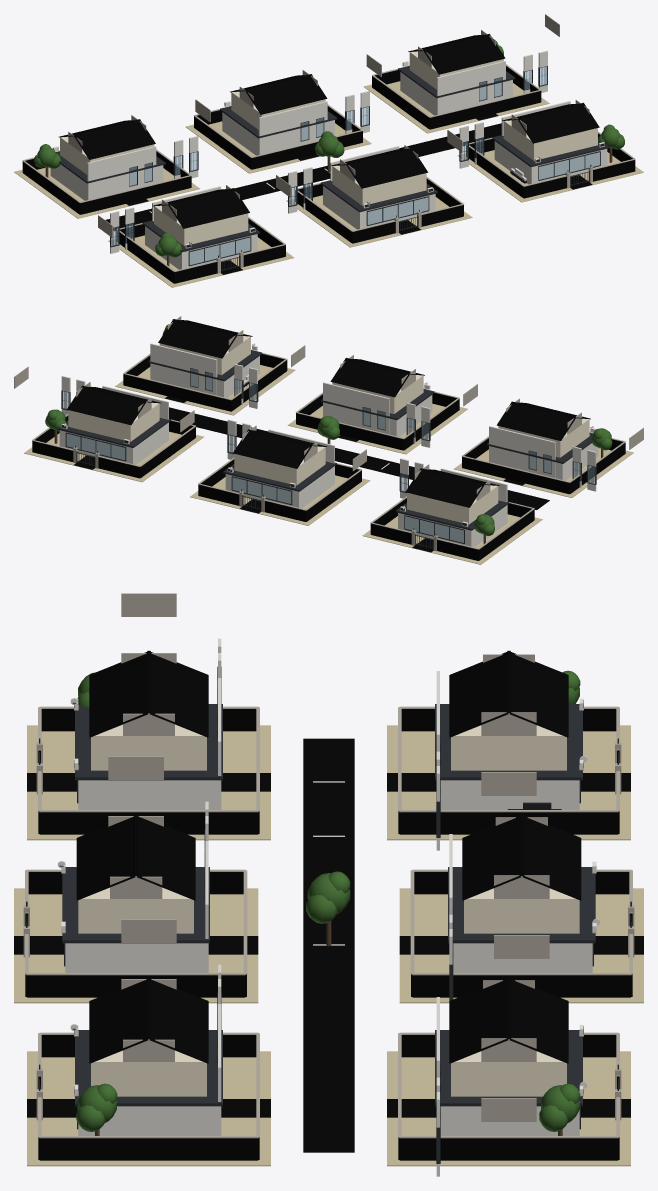
The model's file is high_housing.glb.
The picture shows the model from 3 angles, top to bottom: view 1: azimuth 30°, elevation 25°; view 2: azimuth 150°, elevation 25°; view 3: azimuth 270°, elevation 25°; orthographic projection. The views are drawn at different scales.
Visible parts, largest first — view 1: g1 (×6), g2 (×6), plot (×6), balcony (×6), glass_sheet (×3), estate_road, object 147, object 9, object 422, object 284, object 698, object 561 (+18 smaller); view 2: g1 (×6), g2 (×6), plot (×6), balcony (×6), glass_sheet (×3), estate_road, object 560, object 285, object 146, object 699, object 8, object 423 (+18 smaller); view 3: plot (×6), g2 (×6), g1 (×6), estate_road, balcony (×6), drive (×6), object 257, object 532, object 394, object 808, object 8, object 146 (+31 smaller).
Boxes of the visible parts, x1,y1,x2,y2 form: g1 (×6): (50, 72, 607, 269); g2 (×6): (60, 51, 597, 245); plot (×6): (14, 81, 643, 287); balcony (×6): (55, 65, 609, 252); glass_sheet (×3): (189, 152, 600, 264); estate_road: (105, 123, 501, 231); object 147: (517, 102, 599, 143); object 9: (168, 188, 249, 228); object 422: (423, 34, 505, 74); object 284: (74, 119, 155, 159); object 698: (245, 74, 327, 114); object 561: (346, 148, 428, 188); g1 (×6): (59, 356, 598, 547); g2 (×6): (68, 336, 589, 524); plot (×6): (24, 365, 633, 564); balcony (×6): (57, 350, 593, 530); glass_sheet (×3): (66, 434, 463, 542); estate_road: (169, 407, 549, 509); object 560: (330, 358, 410, 397); object 285: (405, 468, 484, 507); object 146: (158, 319, 237, 358); object 699: (233, 429, 312, 468); object 8: (496, 401, 576, 440); object 423: (67, 385, 146, 425); plot (×6): (14, 725, 643, 1166); g2 (×6): (78, 724, 579, 1096); g1 (×6): (65, 780, 592, 1135); estate_road: (303, 738, 354, 1152); balcony (×6): (62, 704, 595, 1106); drive (×6): (14, 773, 643, 1117); object 257: (39, 1138, 258, 1160); object 532: (399, 1138, 618, 1160); object 394: (399, 812, 618, 834); object 808: (412, 975, 630, 997); object 8: (147, 650, 208, 737); object 146: (147, 976, 208, 1063).
Size of what is drawn, in the model's own units: 93 by 8.77 by 49.
